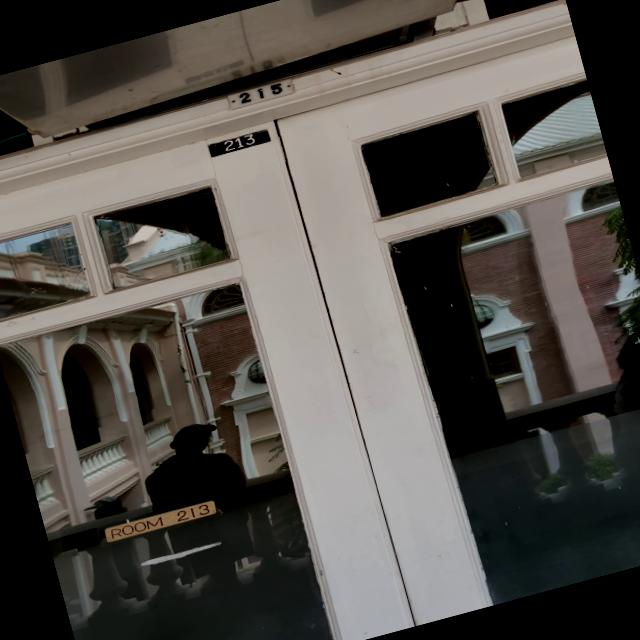room213: (202, 122, 278, 158)
